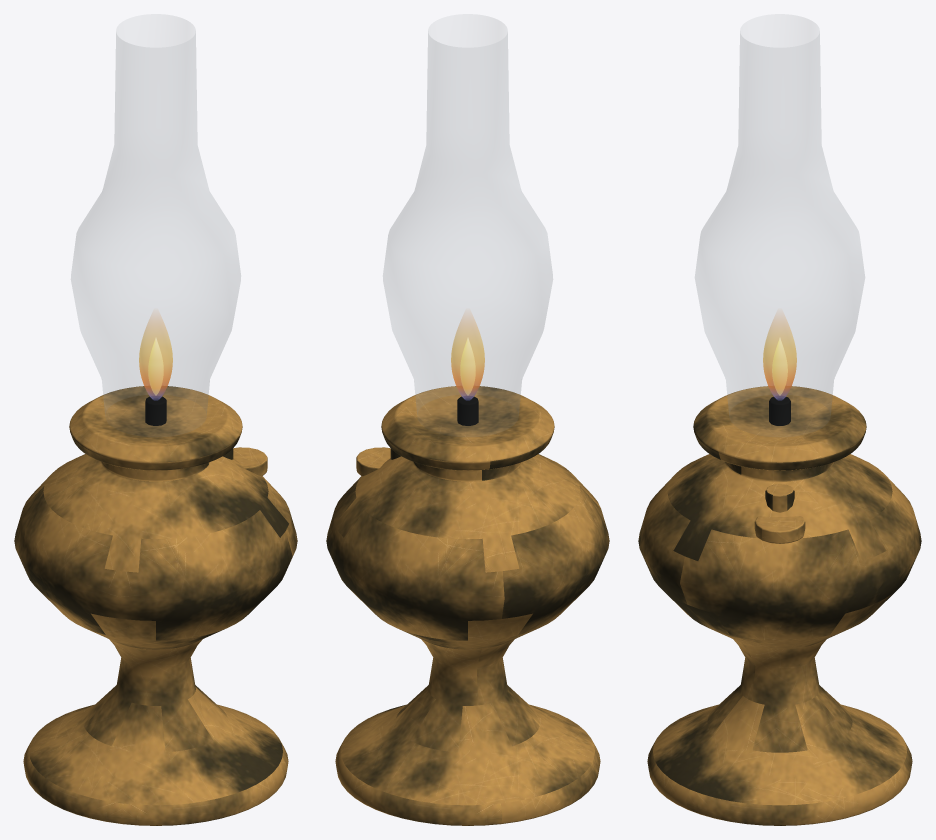
File: OilLamp_Lit.gltf
3 views of the same model, side by side, from view 1: azimuth 30°, elevation 25°; view 2: azimuth 150°, elevation 25°; view 3: azimuth 270°, elevation 25° (orthographic).
Parts seen in each view (by area): view 1: OilLamp_Lit_Body, OilLamp_Lit_Glass, OilLamp_Lit_Flame; view 2: OilLamp_Lit_Body, OilLamp_Lit_Glass, OilLamp_Lit_Flame; view 3: OilLamp_Lit_Body, OilLamp_Lit_Glass, OilLamp_Lit_Flame.
Boxes of the visible parts, x1,y1,x2,y2 form: OilLamp_Lit_Body: [14, 386, 297, 825]; OilLamp_Lit_Glass: [71, 31, 240, 415]; OilLamp_Lit_Flame: [139, 315, 172, 400]; OilLamp_Lit_Body: [326, 386, 609, 825]; OilLamp_Lit_Glass: [383, 31, 552, 415]; OilLamp_Lit_Flame: [451, 315, 484, 400]; OilLamp_Lit_Body: [638, 386, 921, 825]; OilLamp_Lit_Glass: [695, 31, 864, 415]; OilLamp_Lit_Flame: [763, 315, 796, 400].
Bounding box in the file's own units: 0.156 × 0.45 × 0.156.
5 materials, 2 textured.
